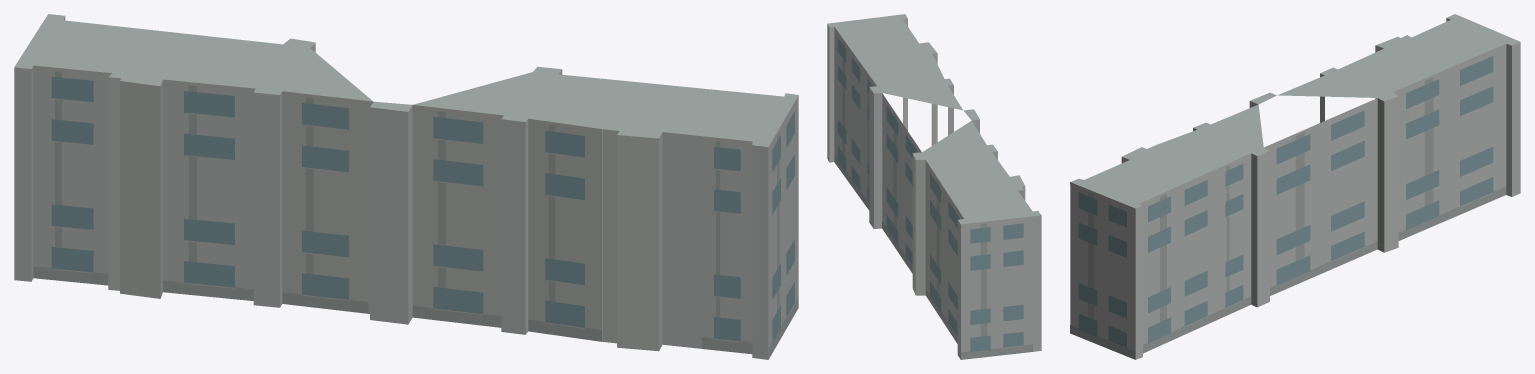
The model's file is survey-upis-32505781.glb.
3 views of the same model, side by side, from view 1: azimuth 30°, elevation 25°; view 2: azimuth 150°, elevation 25°; view 3: azimuth 270°, elevation 25° (orthographic). The views are drawn at different scales.
Visible parts, largest first — view 1: survey-upis-32505781.tmp; view 2: survey-upis-32505781.tmp; view 3: survey-upis-32505781.tmp.
Part boxes in pixels (bbox=[...]): survey-upis-32505781.tmp: bbox=[14, 14, 798, 359]; survey-upis-32505781.tmp: bbox=[827, 14, 1041, 359]; survey-upis-32505781.tmp: bbox=[1070, 14, 1520, 359].
Bounding box in the file's own units: 42.03 × 15.25 × 41.15.
